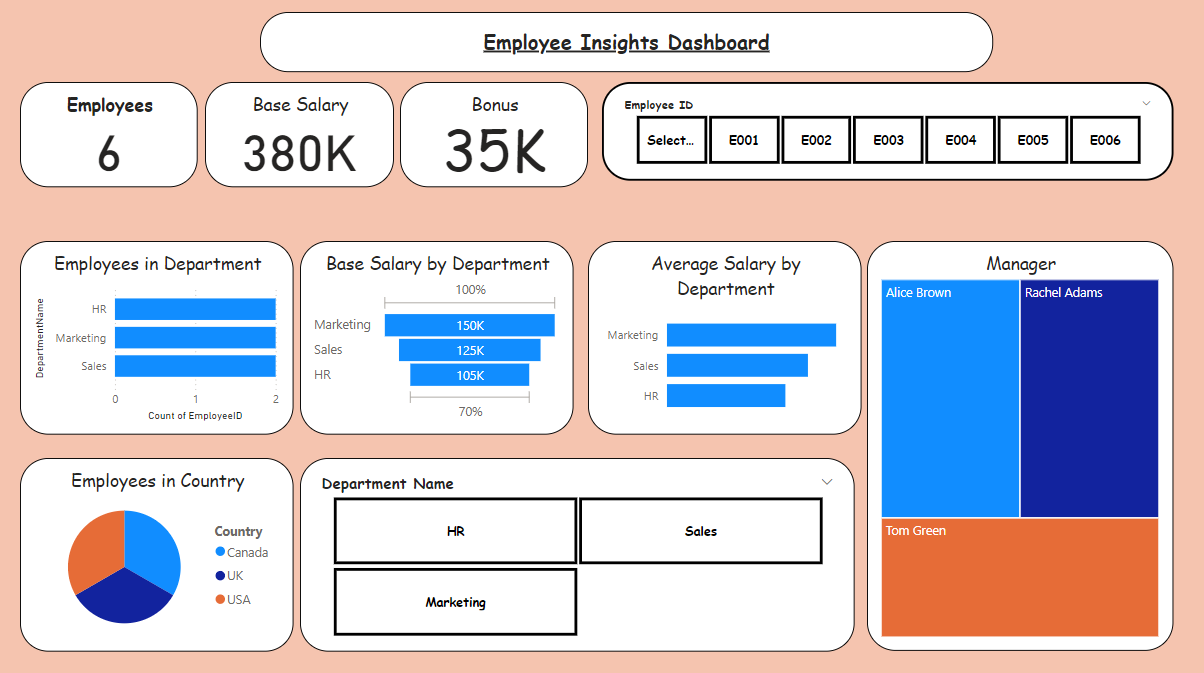

What the dashboard file says about the page in this screenshot:
{"tool":"powerbi","page":{"name":"Page 1","canvas":[1280,720],"ordinal":0},"visuals":[{"type":"card","title":"Employees","fields":{"Values":["employees (2).EmployeeID"]},"box":[21.8,88.1,189,111.8],"z":0},{"type":"textbox","box":[276.1,13.9,779.9,64.3],"z":1000},{"type":"card","title":"Base Salary","fields":{"Values":["salaries.BaseSalary"]},"box":[217.7,88.1,200.9,111.8],"z":2000},{"type":"card","title":"Bonus","fields":{"Values":["salaries.Bonus"]},"box":[425.6,88.1,199.9,111.8],"z":3000},{"type":"barChart","title":"Employees in Department","fields":{"Category":["departments.DepartmentName"],"Y":["employees.EmployeeID"]},"box":[21.8,257.3,291,205.9],"z":4000},{"type":"funnel","title":"Base Salary by Department","fields":{"Category":["departments.DepartmentName"],"Y":["salaries.BaseSalary"]},"box":[318.7,257.3,291,205.9],"z":5000},{"type":"barChart","title":"Average Salary by Department","fields":{"Y":["salaries.BaseSalary"],"Category":["departments.DepartmentName"]},"box":[625.5,257.3,291,205.9],"z":6000},{"type":"pieChart","title":"Employees in Country","fields":{"Category":["employees.Country"],"Y":["employees.EmployeeID"]},"box":[21.8,487.9,291,205.9],"z":7000},{"type":"treemap","title":"Manager","fields":{"Group":["departments.Manager"],"Values":["departments.DepartmentName"]},"box":[922.4,257.3,325.6,436.5],"z":8000},{"type":"slicer","fields":{"Values":["employees.EmployeeID"]},"box":[640.3,88.1,607.7,104.9],"z":9000},{"type":"slicer","fields":{"Values":["departments.DepartmentName"]},"box":[318.7,487.9,589.9,205.9],"z":10000}]}

Visuals, with their boxes in screenshot pixels (x1, y1, x2, y2), scaled from the page's 1280x720 canvas onto the 1204x673 screenshot:
"Employees" card: <region>21, 82, 198, 187</region>
textbox: <region>260, 13, 993, 73</region>
"Base Salary" card: <region>205, 82, 394, 187</region>
"Bonus" card: <region>400, 82, 588, 187</region>
"Employees in Department" barChart: <region>21, 241, 294, 433</region>
"Base Salary by Department" funnel: <region>300, 241, 573, 433</region>
"Average Salary by Department" barChart: <region>588, 241, 862, 433</region>
"Employees in Country" pieChart: <region>21, 456, 294, 649</region>
"Manager" treemap: <region>868, 241, 1174, 649</region>
slicer - employees.EmployeeID: <region>602, 82, 1174, 180</region>
slicer - departments.DepartmentName: <region>300, 456, 855, 649</region>
